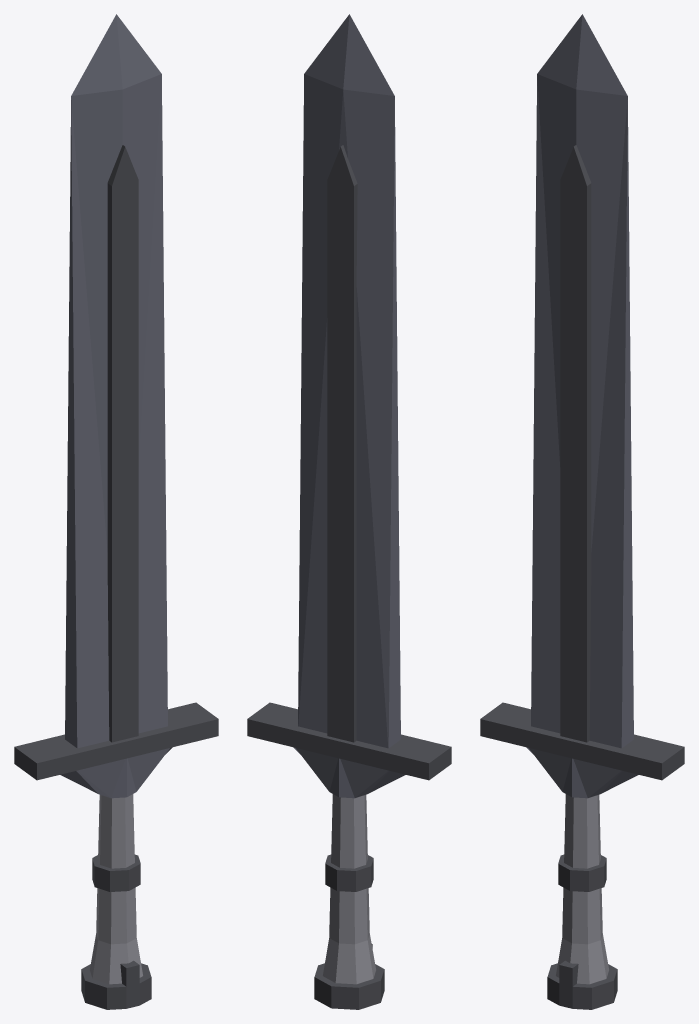
Rendered from _sword_4.fbx.
3 renders of one model, left to right at view 1: azimuth 30°, elevation 25°; view 2: azimuth 150°, elevation 25°; view 3: azimuth 330°, elevation 25°, orthographic.
Parts seen in each view (by area): view 1: sword_4; view 2: sword_4; view 3: sword_4.
Part boxes in pixels (x1,y1,x2,y2): sword_4: [14, 14, 218, 1009]; sword_4: [247, 14, 451, 1009]; sword_4: [480, 14, 684, 1009].
Size of the model in its own units: 16.33 by 84.21 by 5.39.
